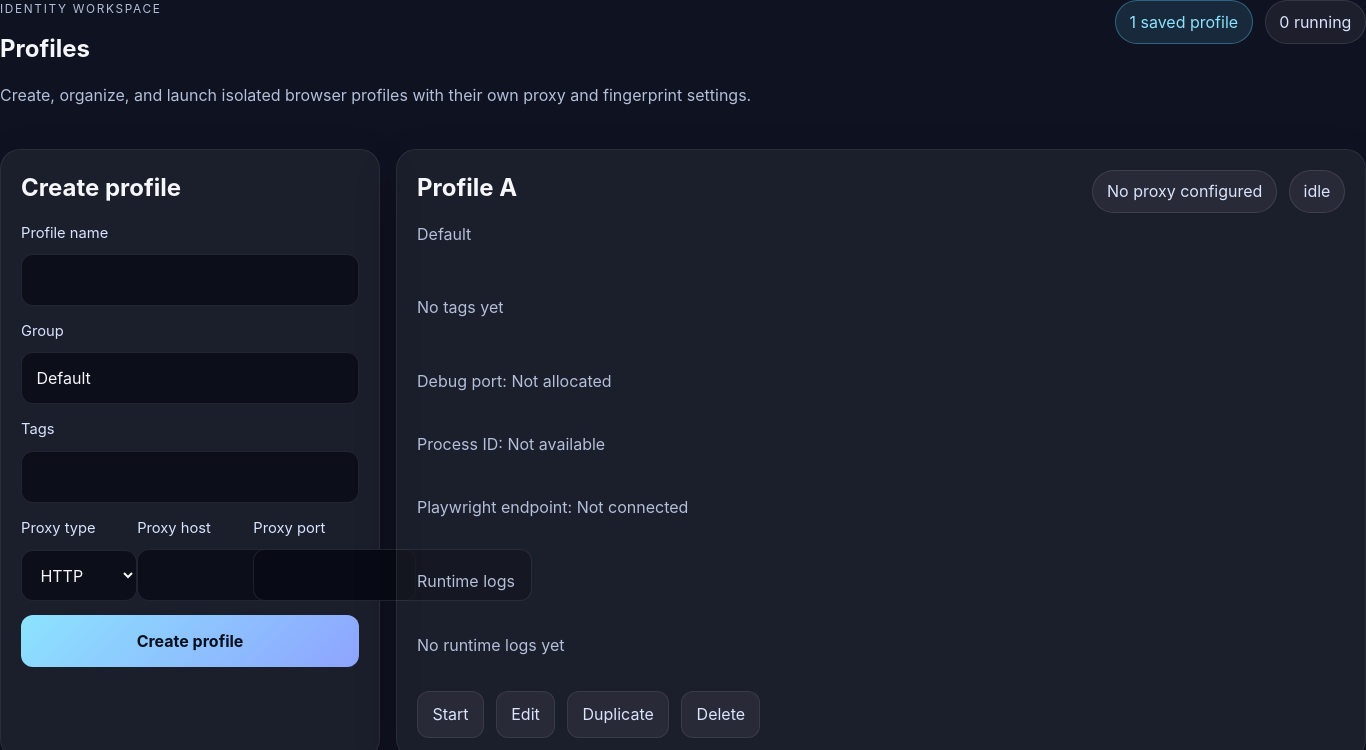
Test: ProfilesPage › starts a profile and shows runtime status, debug port, and Playwright endpoint
Click the button with aria-label "start profile a". click: (450, 714)
box: top-left (417, 691), bottom-right (484, 738)
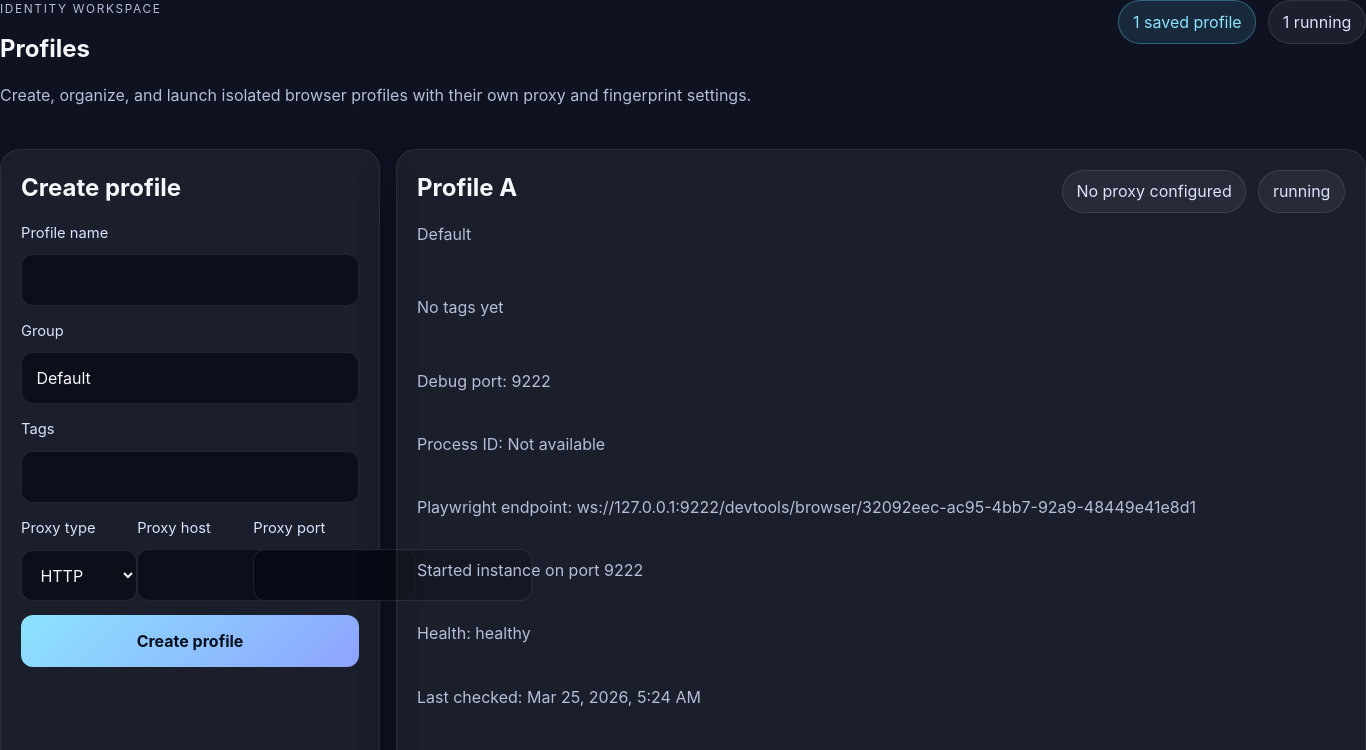
Expected: the text "running" is shown, top-left (1258, 170), bottom-right (1345, 213)
Expected: the text "Debug port: 9222" is shown, top-left (417, 371), bottom-right (551, 391)
Expected: the text "Playwright endpoint: ws://127.0.0.1:9222" is shown, top-left (417, 497), bottom-right (1196, 517)
